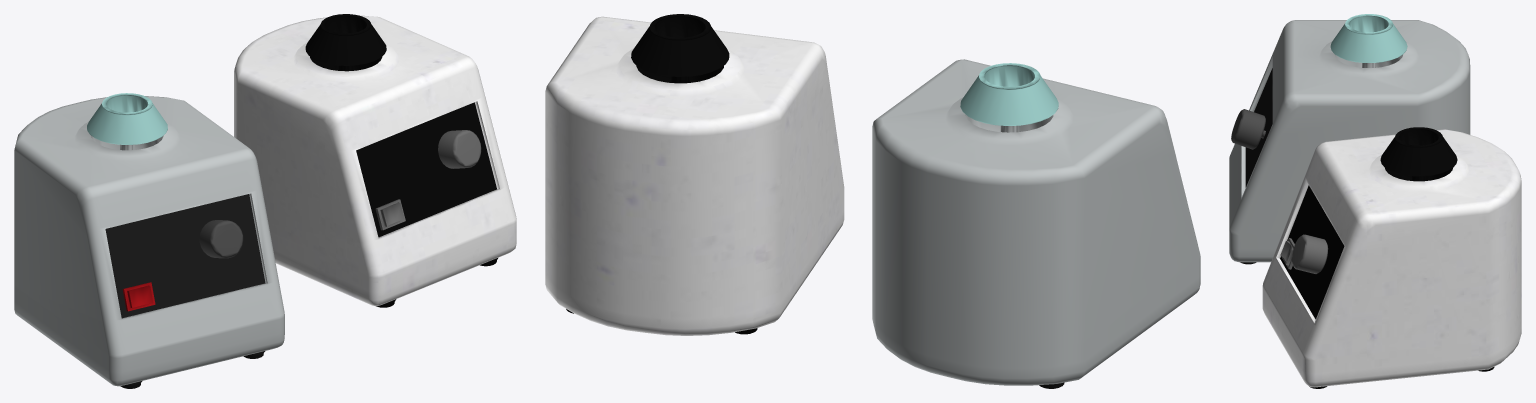
The picture shows the model from 3 angles, left to right: view 1: azimuth 30°, elevation 25°; view 2: azimuth 150°, elevation 25°; view 3: azimuth 270°, elevation 25°; orthographic projection. The views are drawn at different scales.
Visible parts, largest first — view 1: SM_VortexMixer, SM_VortexMixer.002; view 2: SM_VortexMixer, SM_VortexMixer.002; view 3: SM_VortexMixer.002, SM_VortexMixer.
Boxes of the visible parts, bbox=[...] form: SM_VortexMixer: bbox=[14, 93, 284, 388]; SM_VortexMixer.002: bbox=[234, 14, 516, 307]; SM_VortexMixer: bbox=[872, 59, 1200, 388]; SM_VortexMixer.002: bbox=[545, 14, 844, 335]; SM_VortexMixer.002: bbox=[1262, 127, 1521, 388]; SM_VortexMixer: bbox=[1229, 14, 1470, 264].
Size of the model in its own units: 0.3237 by 0.1522 by 0.1943.
4 materials, 2 textured.
